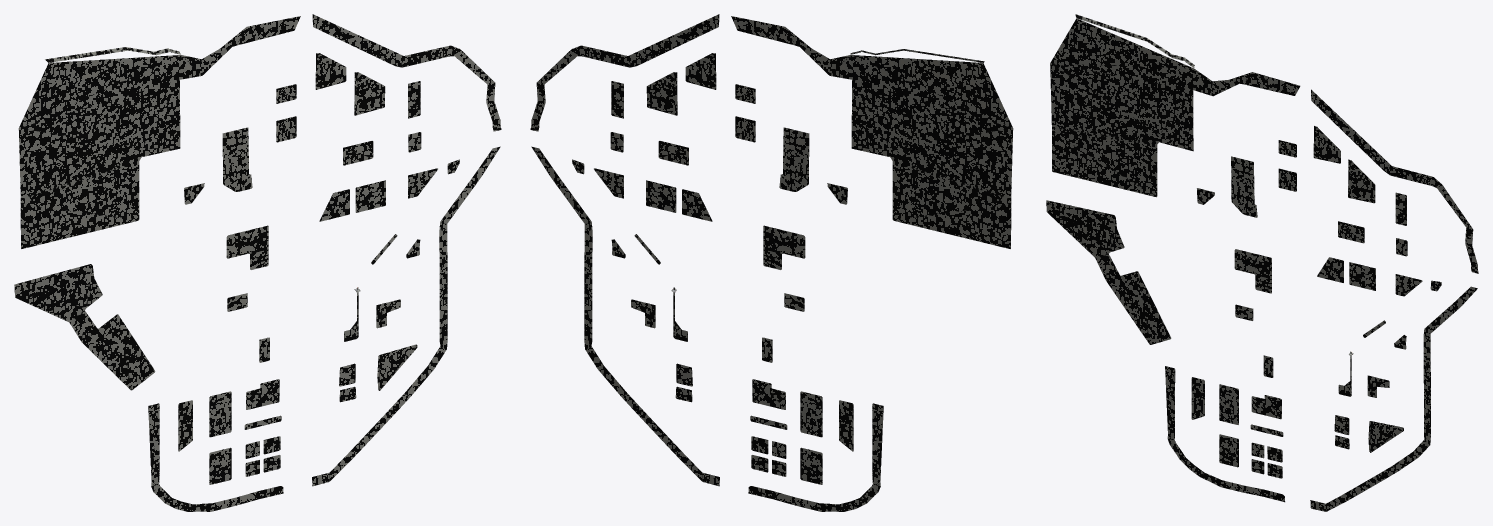
The model's file is fracture_parts.gltf.
The picture shows the model from 3 angles, left to right: view 1: azimuth 30°, elevation 25°; view 2: azimuth 150°, elevation 25°; view 3: azimuth 330°, elevation 25°; orthographic projection. The views are drawn at different scales.
Visible parts, largest first — view 1: murut; view 2: murut; view 3: murut.
Boxes of the visible parts, left/top/right/bottom form: murut: left=14, top=14, right=501, bottom=511; murut: left=530, top=14, right=1013, bottom=511; murut: left=1046, top=14, right=1478, bottom=511.
Bounding box in the file's own units: 586 × 565 × 7.42.
7 materials, 6 textured.
